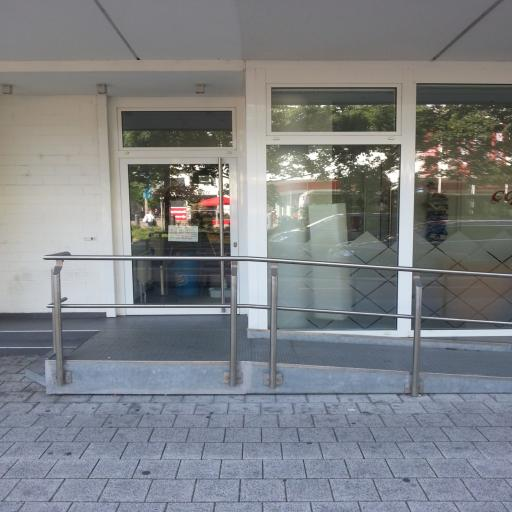ramp: (247, 330, 512, 394)
